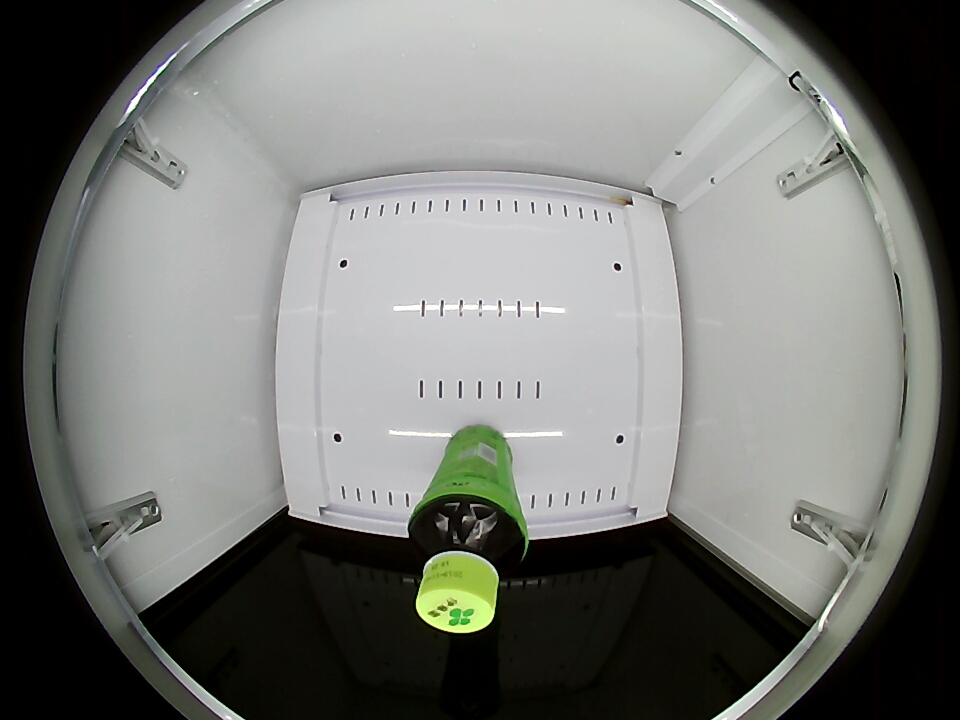yitengyuan: (408, 494, 528, 633)
